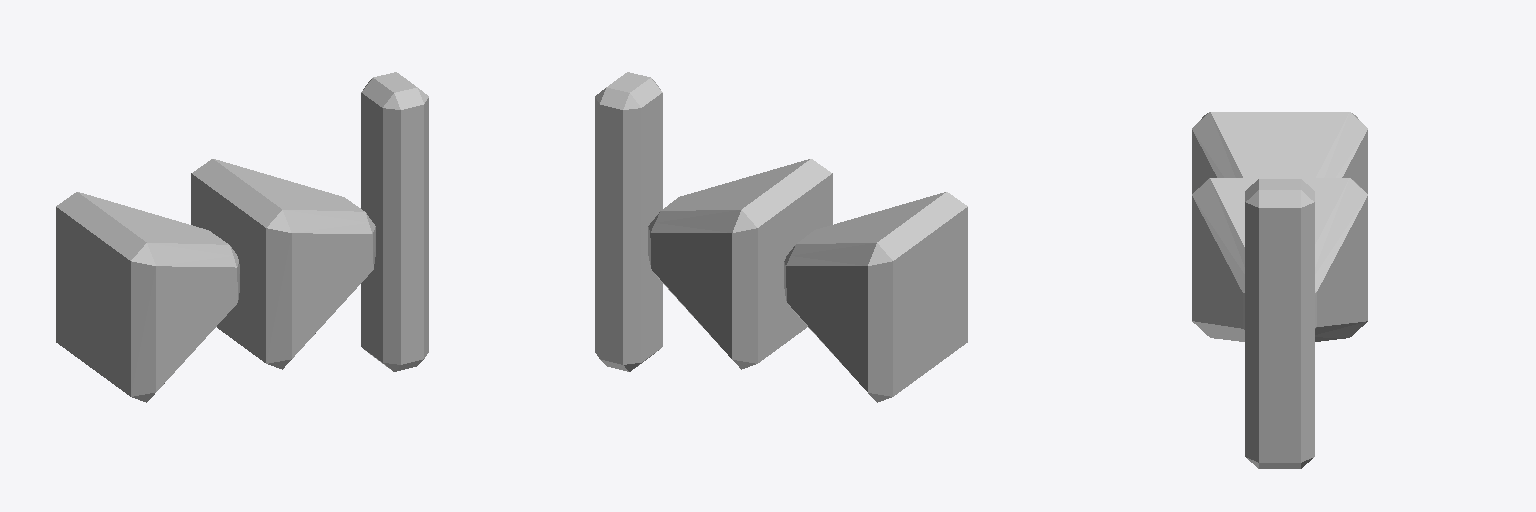
The model's file is Boton 1.obj.
3 views of the same model, side by side, from view 1: azimuth 30°, elevation 25°; view 2: azimuth 150°, elevation 25°; view 3: azimuth 270°, elevation 25° (orthographic).
Parts seen in each view (by area): view 1: pasar_2:pCube6; view 2: pasar_2:pCube6; view 3: pasar_2:pCube6.
Part boxes in pixels (bbox=[...]): pasar_2:pCube6: bbox=[56, 72, 428, 402]; pasar_2:pCube6: bbox=[595, 72, 967, 402]; pasar_2:pCube6: bbox=[1192, 112, 1367, 468].
Size of the model in its own units: 1.53 by 1.25 by 0.7179.